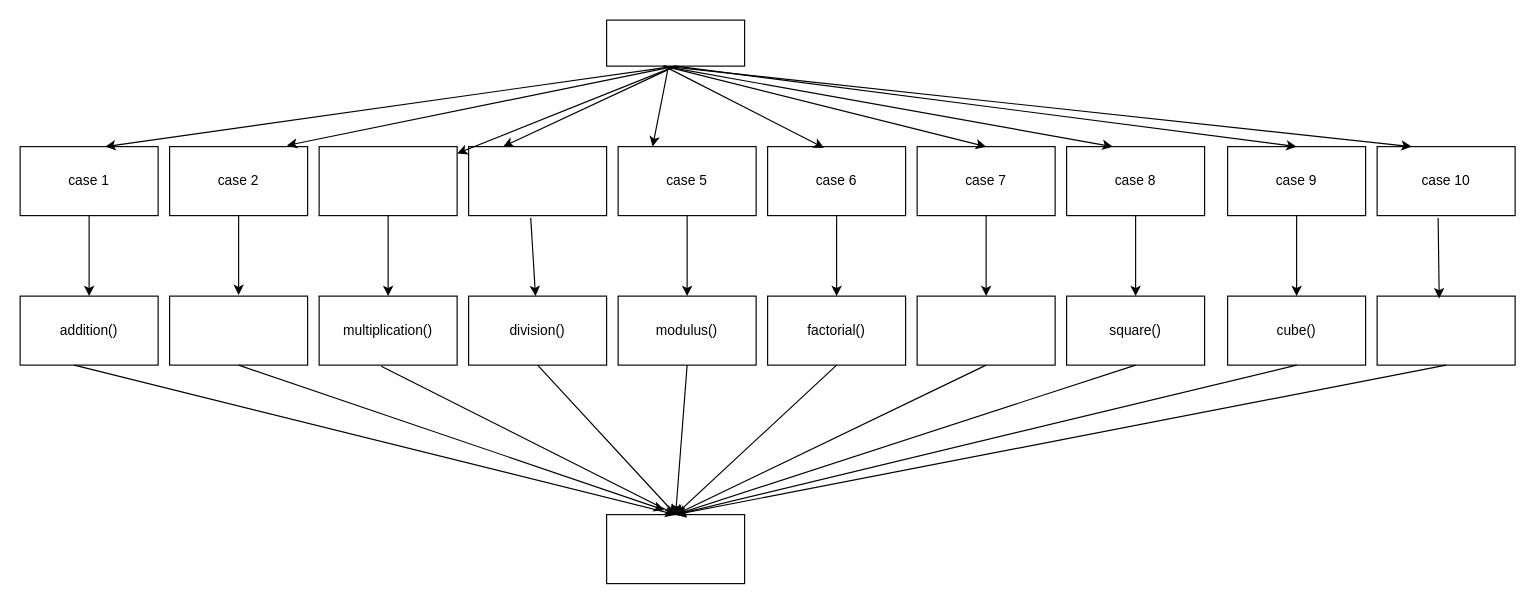
This 1535x604 diagram has some shape labels left out. The centre of each missing label's shape, as x and y in pixels:
ans: point 675,548
case 3: point 387,180
case 4: point 537,180
main: point 675,42
power(): point 985,330
square root(): point 1445,330
subtraction(): point 238,330
